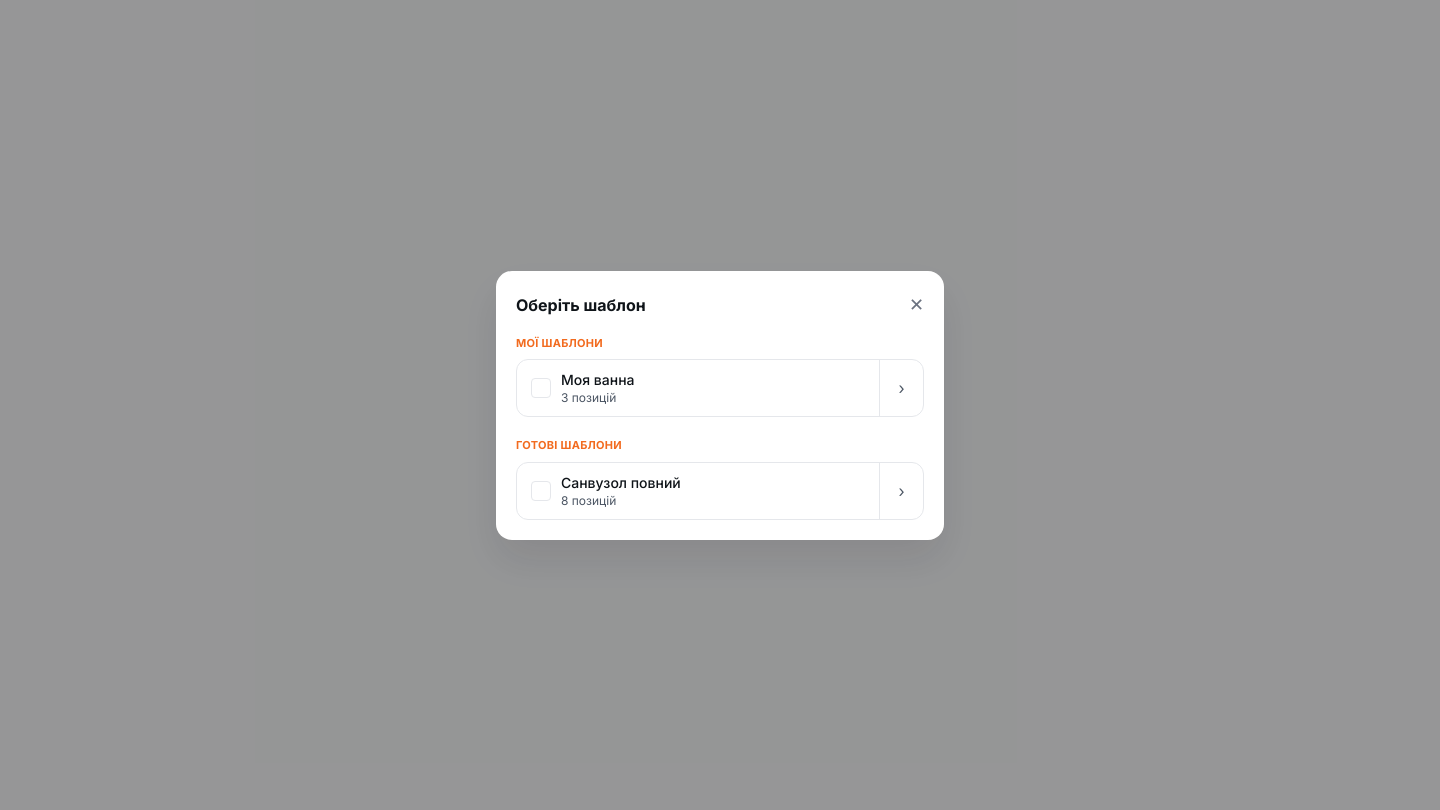
TemplatePickerSheet › untaps a template, and the footer disappears with nothing selected
Check: the text "Моя ванна" is shown, box [561,371,634,388]
Click the button "✓ Моя ванна 3 позицій" at (598, 380), box [517,360,879,416]
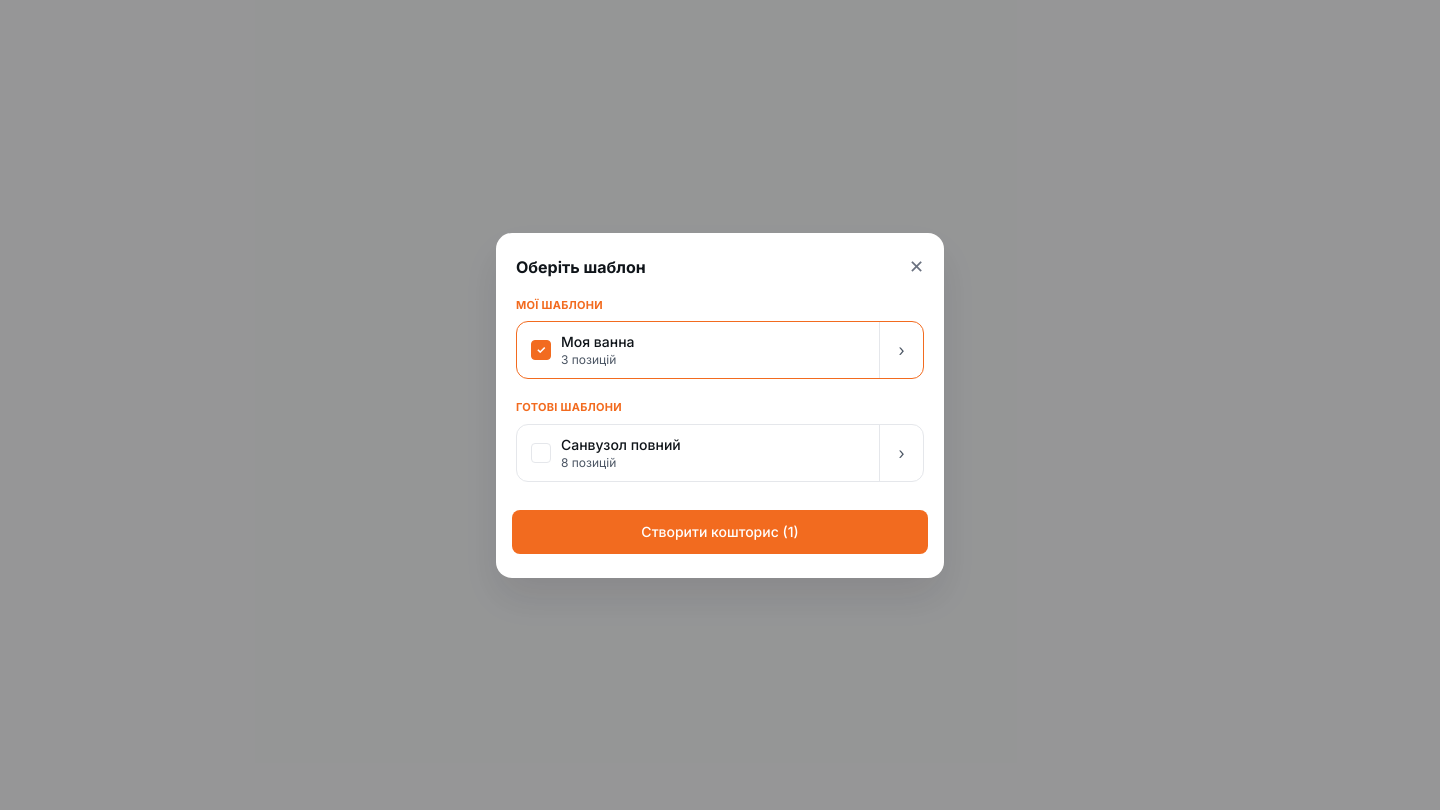
Check: the button "Створити кошторис (1)" is shown, box [512,510,928,554]
Click the button "✓ Моя ванна 3 позицій" at (598, 342), box [517,322,879,378]
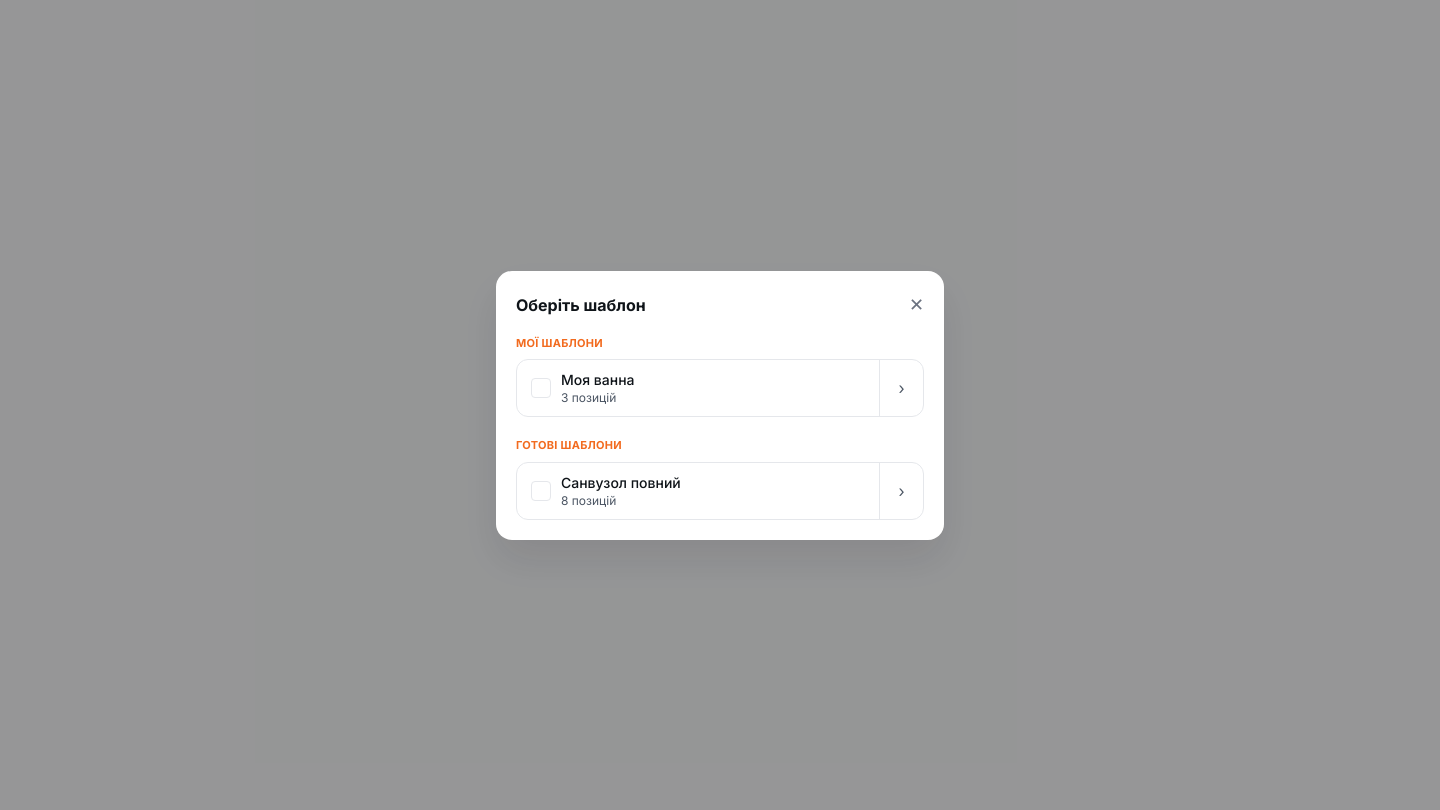
Check: the button "Створити кошторис" is gone
